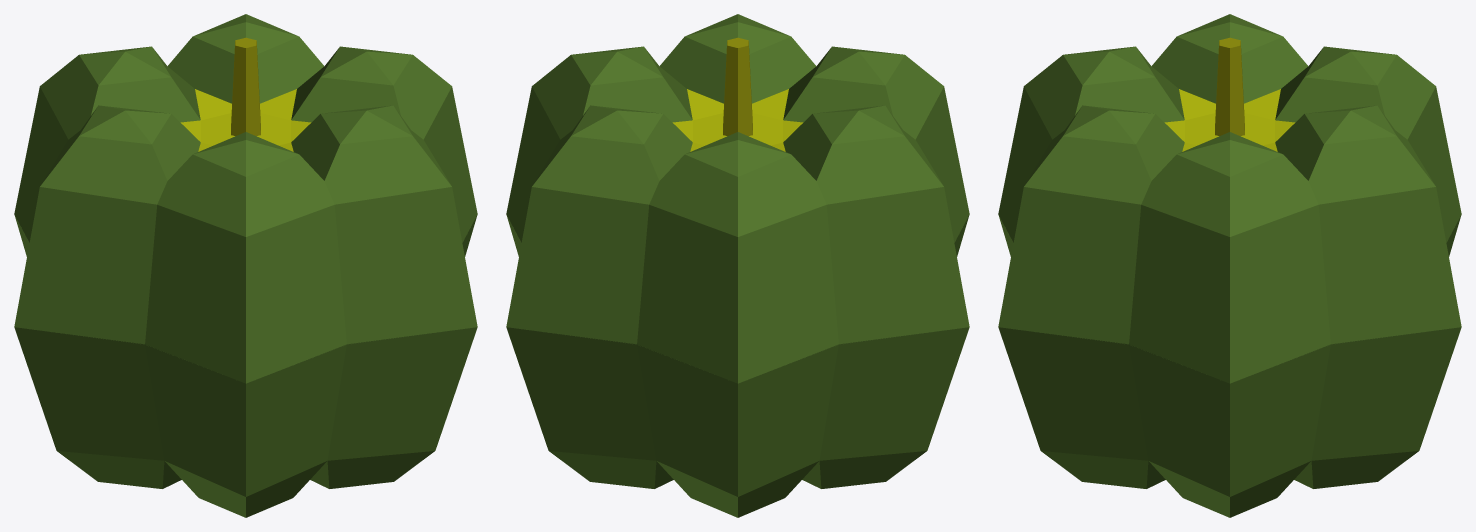
File: Pepper_Green.fbx
The picture shows the model from 3 angles, left to right: view 1: azimuth 30°, elevation 25°; view 2: azimuth 150°, elevation 25°; view 3: azimuth 270°, elevation 25°; orthographic projection.
Visible parts, largest first — view 1: Pepper_Green_Top, Pepper_Green_All, Pepper_Green_Down; view 2: Pepper_Green_Top, Pepper_Green_Down, Pepper_Green_All; view 3: Pepper_Green_All, Pepper_Green_Top, Pepper_Green_Down.
Part boxes in pixels (bbox=[...]): Pepper_Green_Top: bbox=[14, 14, 477, 383]; Pepper_Green_All: bbox=[16, 14, 476, 517]; Pepper_Green_Down: bbox=[14, 215, 477, 517]; Pepper_Green_Top: bbox=[506, 14, 969, 383]; Pepper_Green_Down: bbox=[506, 215, 969, 517]; Pepper_Green_All: bbox=[507, 14, 968, 398]; Pepper_Green_All: bbox=[999, 22, 1456, 488]; Pepper_Green_Top: bbox=[998, 14, 1461, 383]; Pepper_Green_Down: bbox=[998, 215, 1461, 517].
Bounding box in the file's own units: 6.98 × 5.95 × 6.04.
